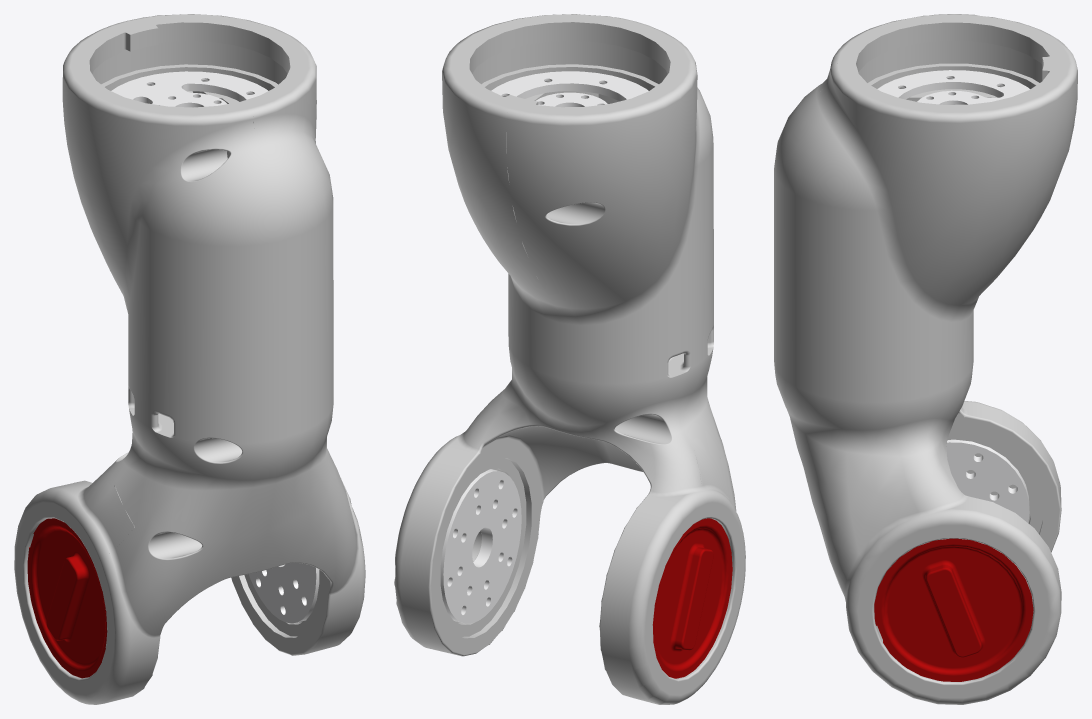
The model's file is Sciurus17_l4.gltf.
The picture shows the model from 3 angles, left to right: view 1: azimuth 30°, elevation 25°; view 2: azimuth 150°, elevation 25°; view 3: azimuth 270°, elevation 25°; orthographic projection. The views are drawn at different scales.
Visible parts, largest first — view 1: Sciurus17_Left_Link4A 20180612; view 2: Sciurus17_Left_Link4A 20180612; view 3: Sciurus17_Left_Link4A 20180612.
Boxes of the visible parts, x1,y1,x2,y2 form: Sciurus17_Left_Link4A 20180612: [14, 14, 365, 704]; Sciurus17_Left_Link4A 20180612: [394, 14, 745, 704]; Sciurus17_Left_Link4A 20180612: [774, 14, 1077, 704].
Bounding box in the file's own units: 0.0721 × 0.162 × 0.0761.
